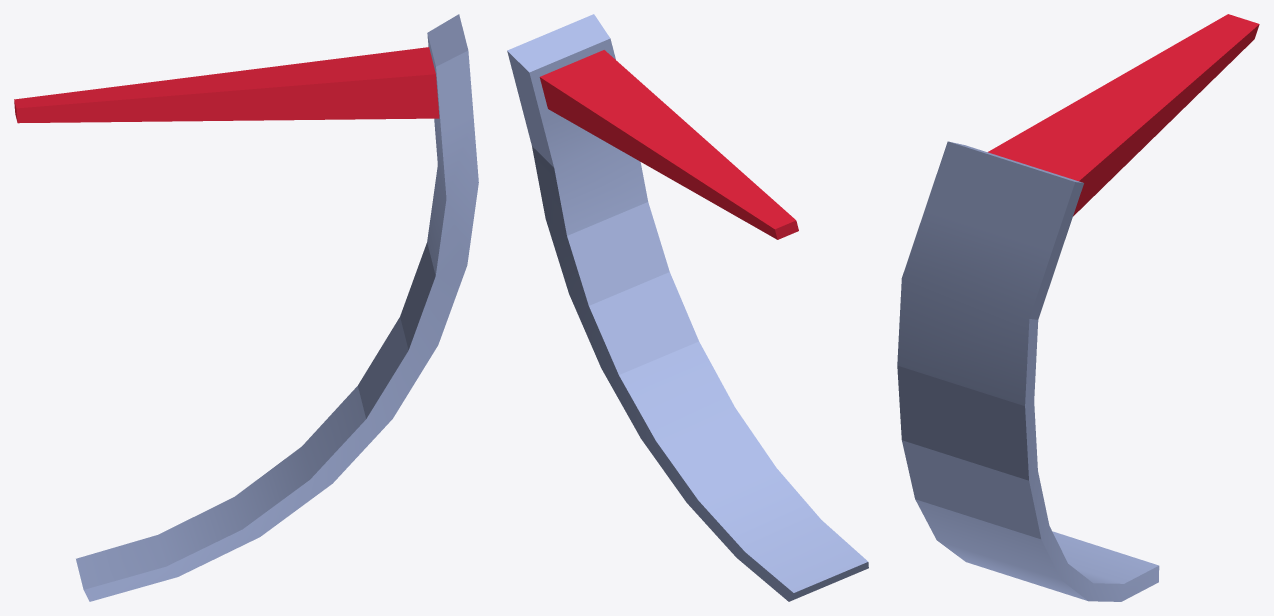
File: engel.fbx
3 renders of one model, left to right at view 1: azimuth 30°, elevation 25°; view 2: azimuth 150°, elevation 25°; view 3: azimuth 270°, elevation 25°, orthographic. The views are drawn at different scales.
Visible parts, largest first — view 1: engel; view 2: engel; view 3: engel.
Boxes of the visible parts, x1,y1,x2,y2 form: engel: [14, 14, 478, 601]; engel: [507, 14, 868, 601]; engel: [897, 14, 1259, 601].
Bounding box in the file's own units: 74.03 × 93.14 × 49.38.
